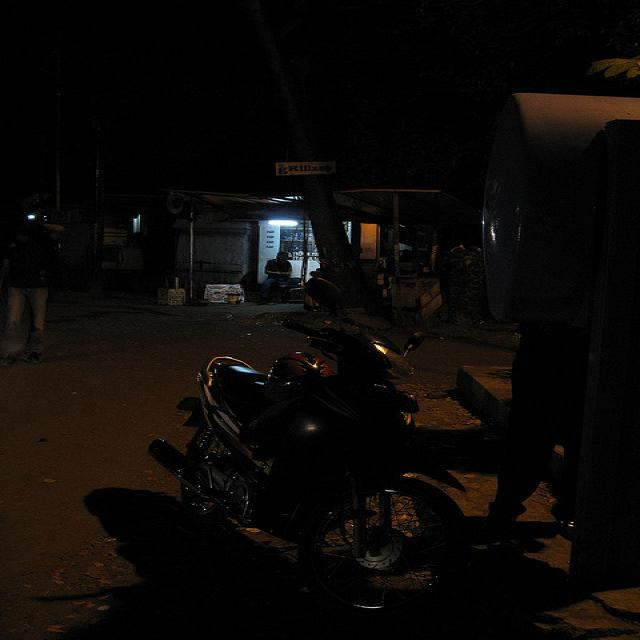Motorbike: (123, 234, 568, 640)
